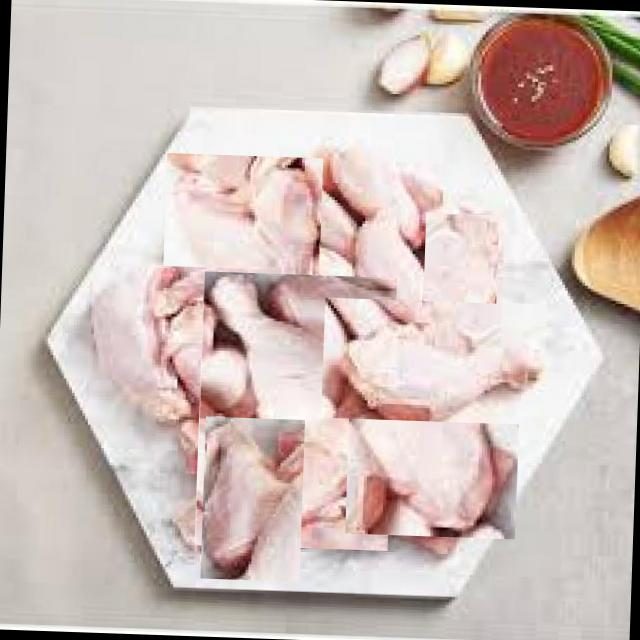chicken: (195, 270, 396, 551), (320, 297, 542, 425), (162, 150, 322, 310), (355, 396, 509, 550), (328, 134, 433, 326), (184, 431, 320, 566), (83, 264, 198, 418), (154, 266, 248, 410), (420, 212, 500, 354)
